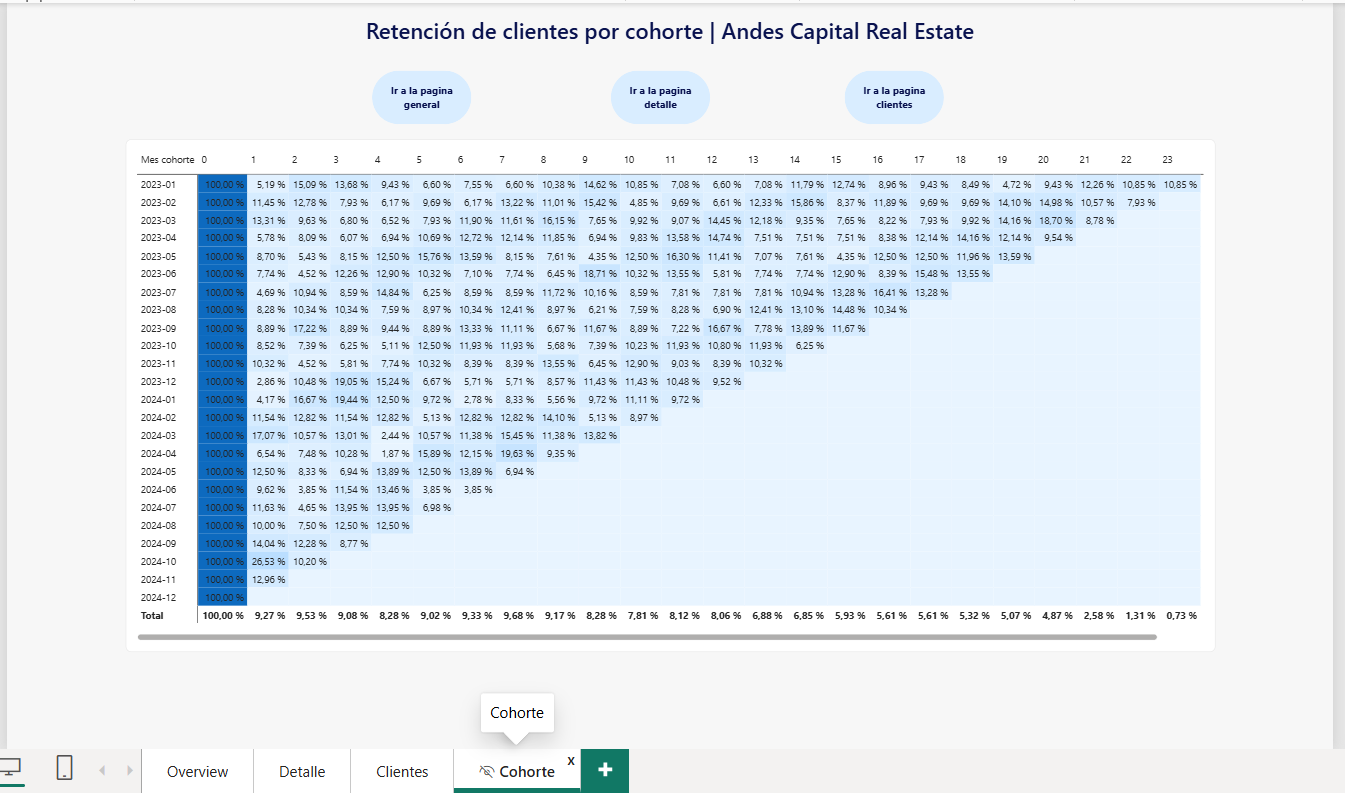

What the dashboard file says about the page in this screenshot:
{"tool":"powerbi","page":{"name":"Cohorte","canvas":[1920,1080],"ordinal":3},"visuals":[{"type":"textbox","box":[488,18,942,64],"z":1},{"type":"actionButton","box":[528,98,144,78],"z":3},{"type":"actionButton","box":[1212,98,144,78],"z":4},{"type":"actionButton","box":[874,98,144,78],"z":5},{"type":"pivotTable","fields":{"Columns":["hecho_ventas_propiedades csv.Meses desde inicio"],"Rows":["hecho_ventas_propiedades csv.Mes cohorte"],"Values":["hecho_ventas_propiedades csv.Retencion %"]},"box":[171.9,197.3,1652.2,758.2],"z":6}]}

Visuals, with their boxes on the page's 1920x1080 design canvas (x1, y1, x2, y2). These are canvas units, not pixel positions in the 1345x793 screenshot, which may show the page scaled, cropped or inside an application window:
textbox: BBox(488, 18, 1430, 82)
actionButton: BBox(528, 98, 672, 176)
actionButton: BBox(1212, 98, 1356, 176)
actionButton: BBox(874, 98, 1018, 176)
pivotTable - hecho_ventas_propiedades csv.Meses desde inicio x hecho_ventas_propiedades csv.Mes cohorte: BBox(172, 197, 1824, 956)
